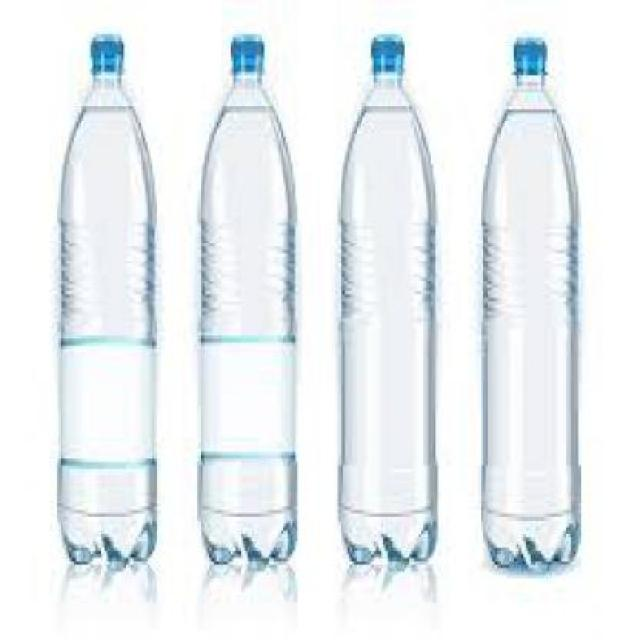PLASTIC: (60, 33, 162, 564), (481, 30, 581, 568), (200, 31, 300, 564), (342, 31, 442, 562), (517, 30, 554, 82), (233, 31, 269, 78), (92, 31, 126, 78), (373, 31, 407, 78)
